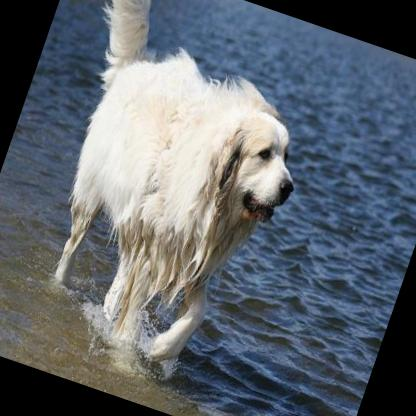Great_Pyrenees: (0, 0, 347, 389)
